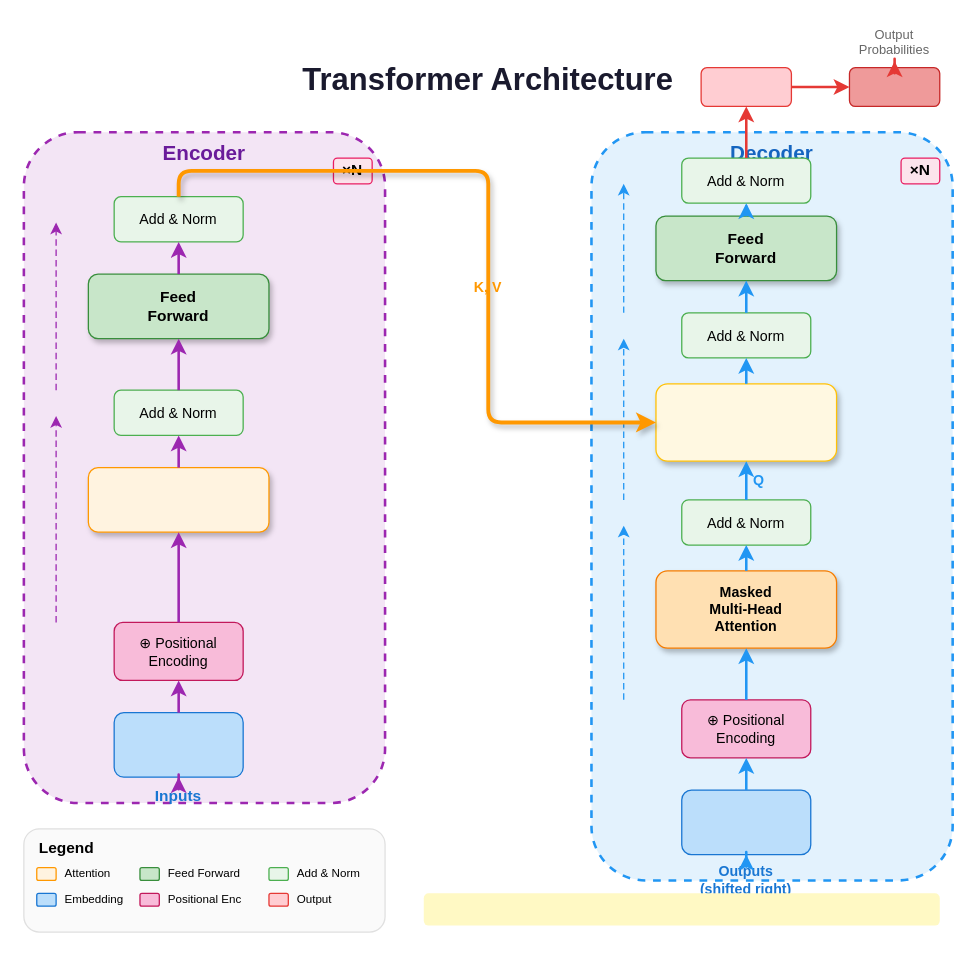
Image size: 975x955. Some labels were removed from this diagram. Here are the shapes that lost their labels. From the top down, the centre of each, then its label:
(x=745, y=86): Linear
(x=894, y=86): Softmax
(x=747, y=423): Multi-Head Attention (Cross)
(x=179, y=501): Multi-Head Attention
(x=178, y=744): Input Embedding
(x=745, y=822): Output Embedding
(x=681, y=909): 💡 Tip: Enable "Flow Animation" in Draw.io to see animated connectors
